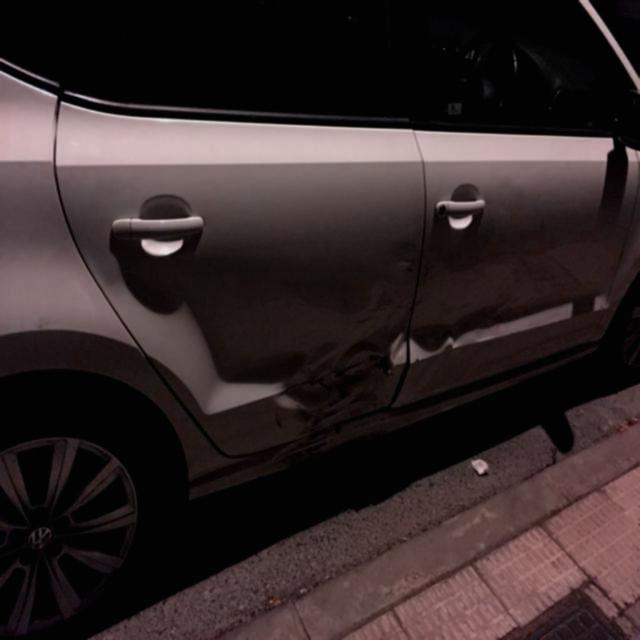minor: (264, 250, 506, 443)
